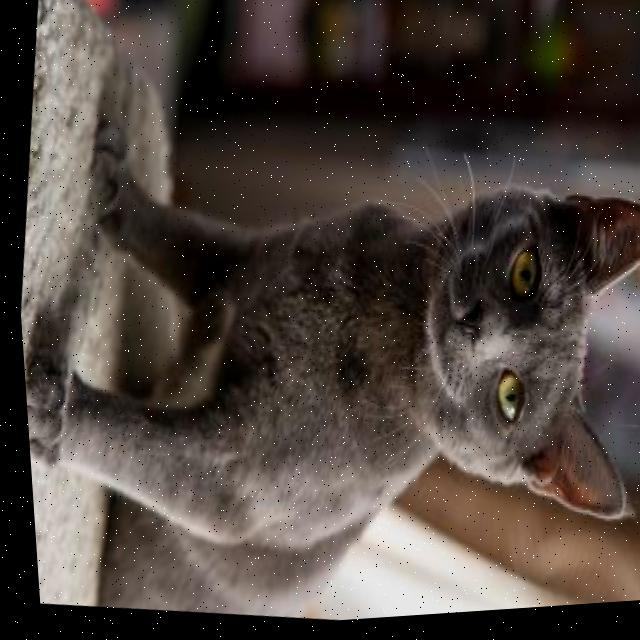Russian Blue: (6, 78, 640, 640)
